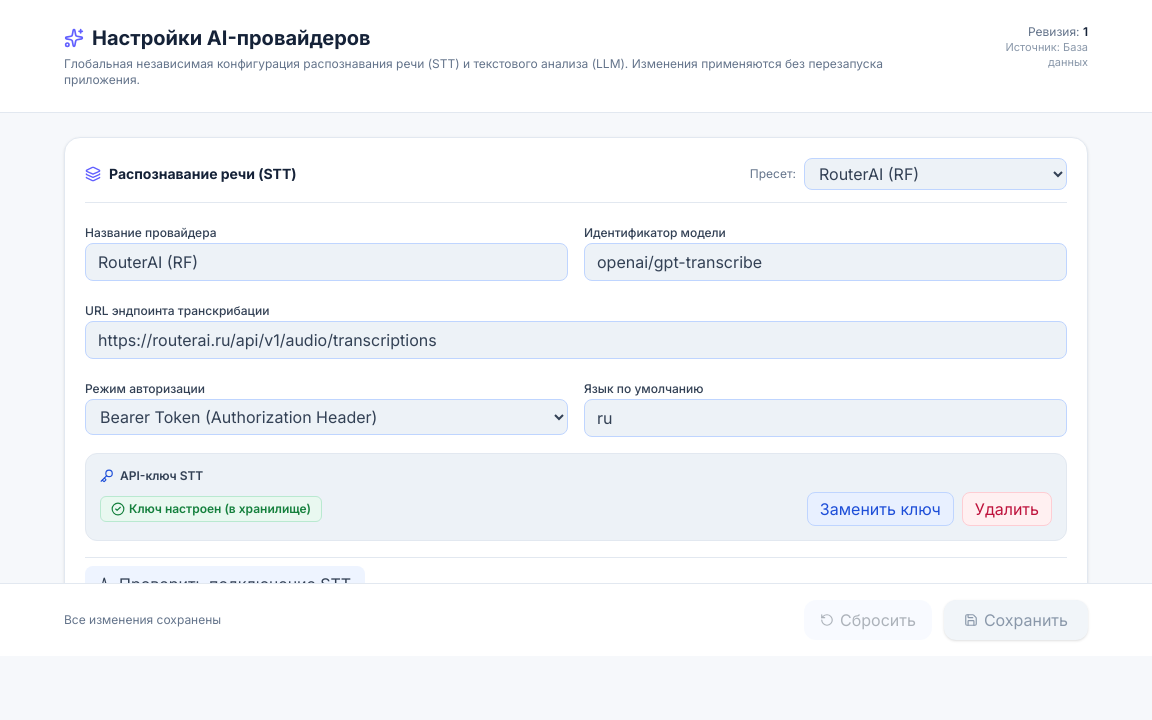
Test case: SettingsScreen Component › handles API key replacement workflow and clears secret after successful save
This screenshot has width=1152, height=720.
Expected: the text "Настройки AI-провайдеров" is shown, [92, 24, 371, 52]
Note: Click "Заменить ключ" in STT section
Click the button "Заменить ключ": (880, 509) [807, 492, 954, 526]
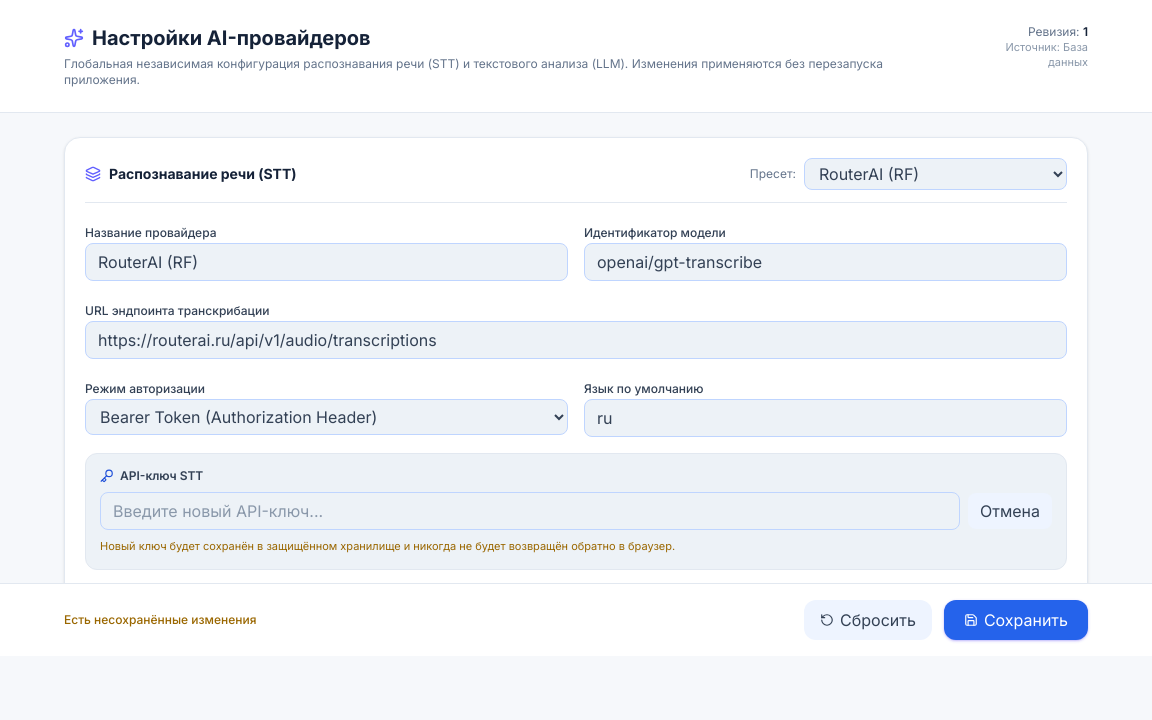
Expected: the password field with placeholder "Введите новый API-ключ..." is shown
In the password field with placeholder "Введите новый API-ключ...": (530, 511) [100, 492, 960, 530], type "sk-new-stt-key-123"
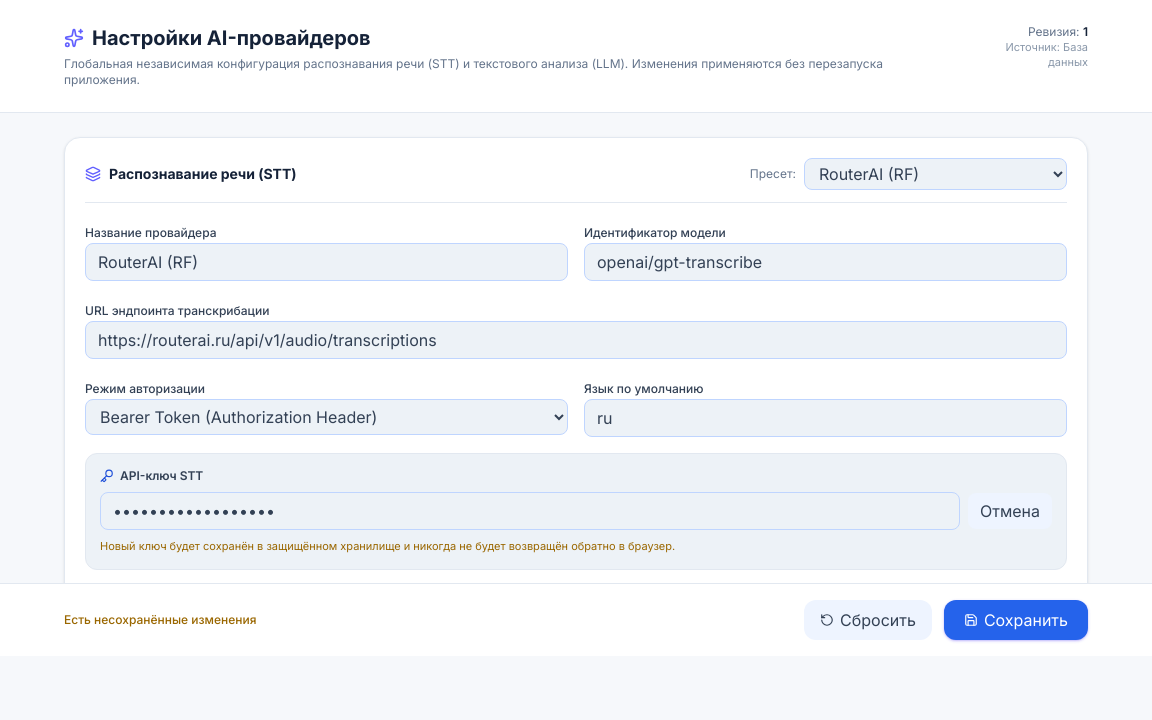
Expected: the button "Сохранить" is enabled
Click the button "Сохранить": (1016, 620) [944, 600, 1088, 640]
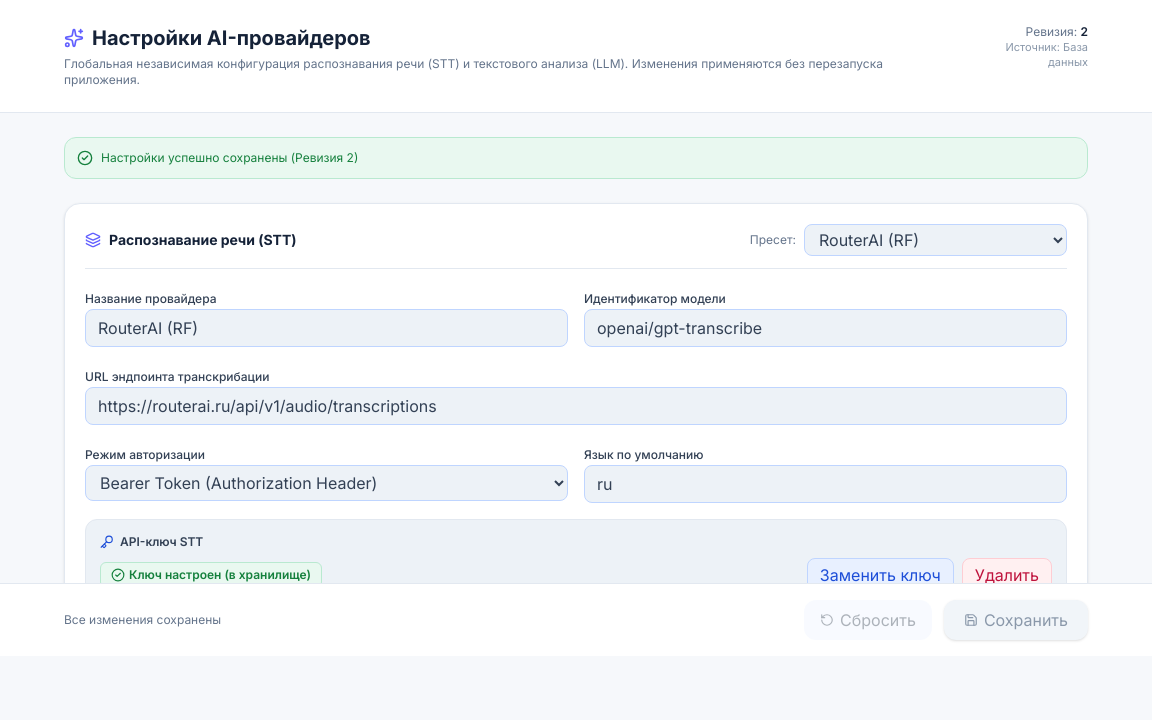
Expected: the text "Настройки успешно сохранены (Ревизия 2)" is shown, [101, 150, 358, 166]
